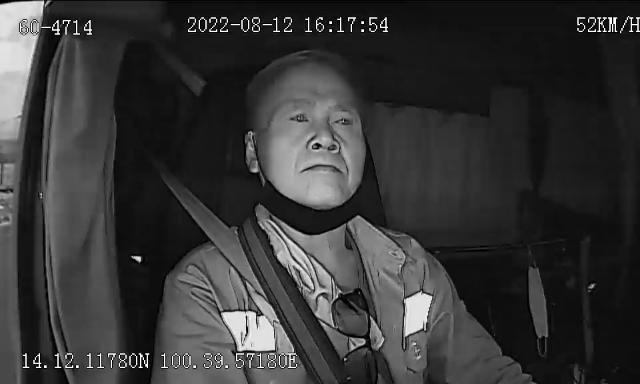SafeDriving: (327, 105, 361, 134), (282, 102, 316, 130)
Seatbelt: (171, 182, 353, 384)
